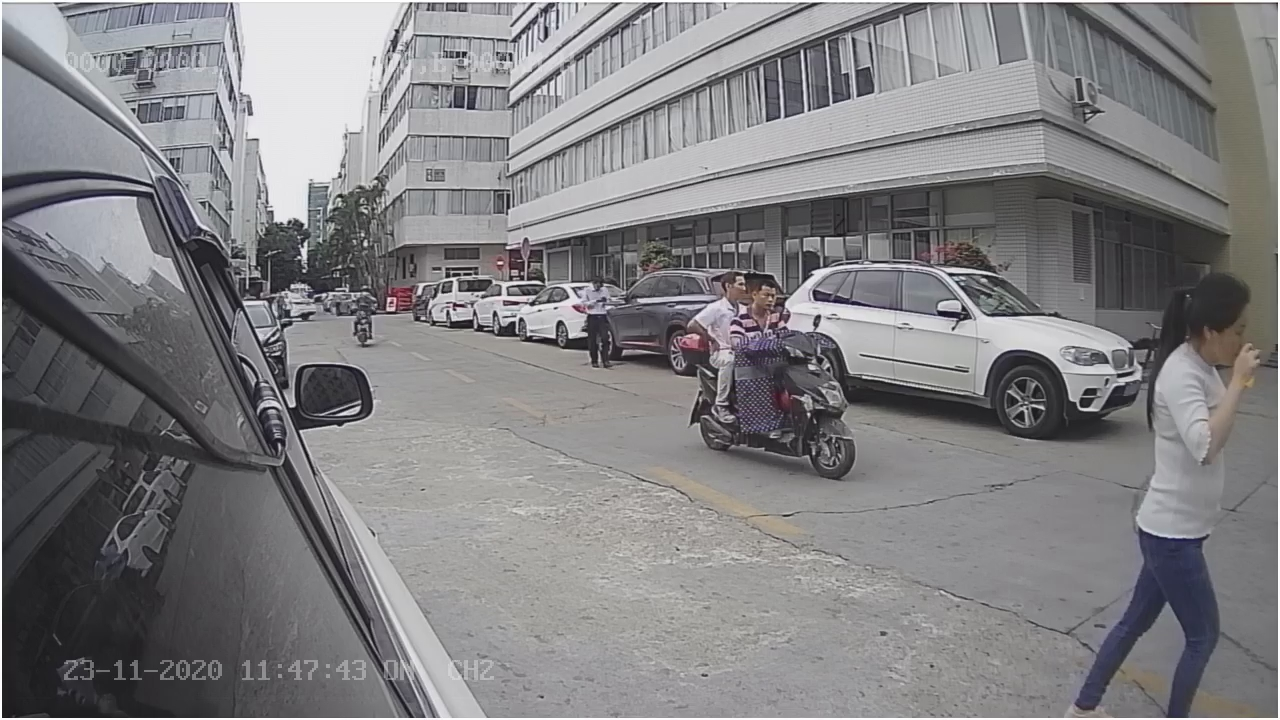person: (1120, 264, 1267, 494)
